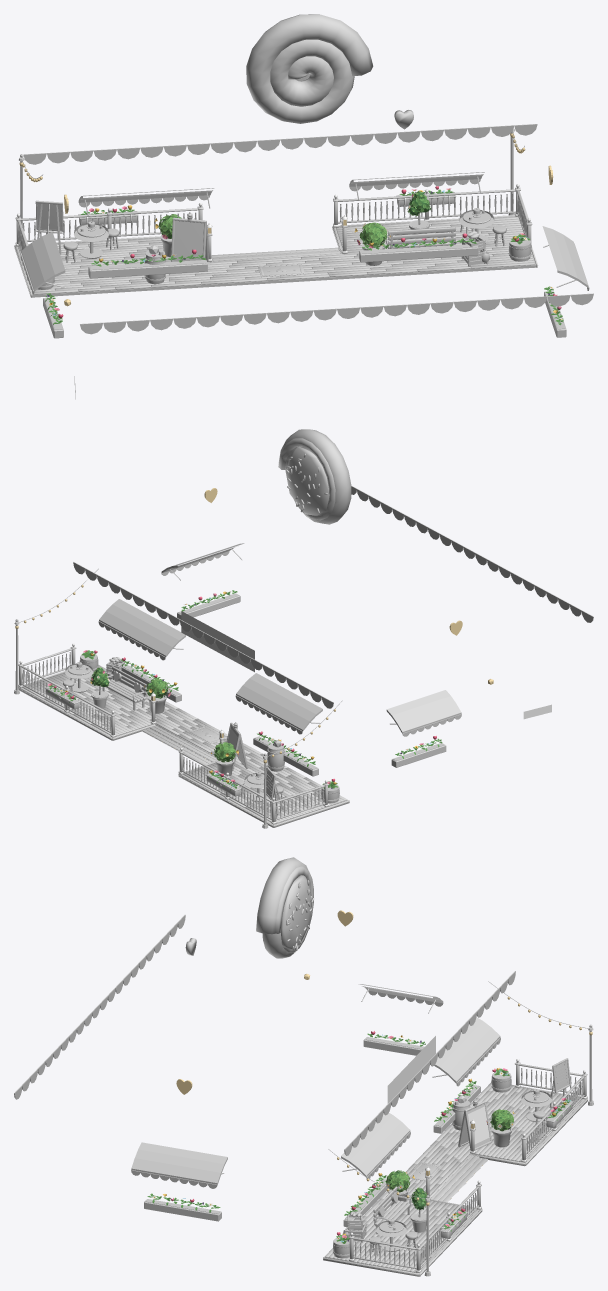
File: zon_bakery.glb
The picture shows the model from 3 angles, top to bottom: view 1: azimuth 30°, elevation 25°; view 2: azimuth 150°, elevation 25°; view 3: azimuth 270°, elevation 25°; orthographic projection. The views are drawn at different scales.
Parts seen in each view (by area): view 1: SM_zon_bakery_kit_bakery_xm1_z1_LOD0, SM_bld_bakery_roll_body__0, SM_zon_bakery_vc_palette_xm1_z1_LOD0, SM_zon_bakery_kit_bakery_gloss_xm1_z1; view 2: SM_zon_bakery_kit_bakery_xm1_z1_LOD0, SM_bld_bakery_roll_body__0, SM_zon_bakery_vc_palette_xm1_z1_LOD0, SCREEN_bld_bakery_shell_sign__0, SM_zon_bakery_kit_bakery_gloss_xm1_z1, SM_zon_bakery_glow_vc_xm1_z1_LOD0; view 3: SM_zon_bakery_kit_bakery_xm1_z1_LOD0, SM_bld_bakery_roll_body__0, SM_zon_bakery_vc_palette_xm1_z1_LOD0, SM_zon_bakery_kit_bakery_gloss_xm1_z1, SCREEN_bld_bakery_shell_sign__0, SM_zon_bakery_glow_vc_xm1_z1_LOD0.
Part boxes in pixels (x1,y1,x2,y2): SM_zon_bakery_kit_bakery_xm1_z1_LOD0: [14, 124, 593, 338]; SM_bld_bakery_roll_body__0: [246, 14, 373, 123]; SM_zon_bakery_vc_palette_xm1_z1_LOD0: [45, 186, 563, 325]; SM_zon_bakery_kit_bakery_gloss_xm1_z1: [14, 184, 537, 295]; SM_zon_bakery_kit_bakery_xm1_z1_LOD0: [14, 485, 593, 828]; SM_bld_bakery_roll_body__0: [278, 429, 351, 524]; SM_zon_bakery_vc_palette_xm1_z1_LOD0: [48, 590, 442, 790]; SCREEN_bld_bakery_shell_sign__0: [181, 611, 254, 672]; SM_zon_bakery_kit_bakery_gloss_xm1_z1: [18, 643, 349, 825]; SM_zon_bakery_glow_vc_xm1_z1_LOD0: [15, 488, 493, 763]; SM_zon_bakery_kit_bakery_xm1_z1_LOD0: [14, 914, 593, 1276]; SM_bld_bakery_roll_body__0: [256, 857, 314, 958]; SM_zon_bakery_vc_palette_xm1_z1_LOD0: [147, 1031, 570, 1243]; SM_zon_bakery_kit_bakery_gloss_xm1_z1: [323, 1059, 587, 1274]; SCREEN_bld_bakery_shell_sign__0: [387, 1036, 435, 1103]; SM_zon_bakery_glow_vc_xm1_z1_LOD0: [176, 910, 592, 1205].
Bounding box in the file's own units: 19.44 × 10.68 × 19.32.
